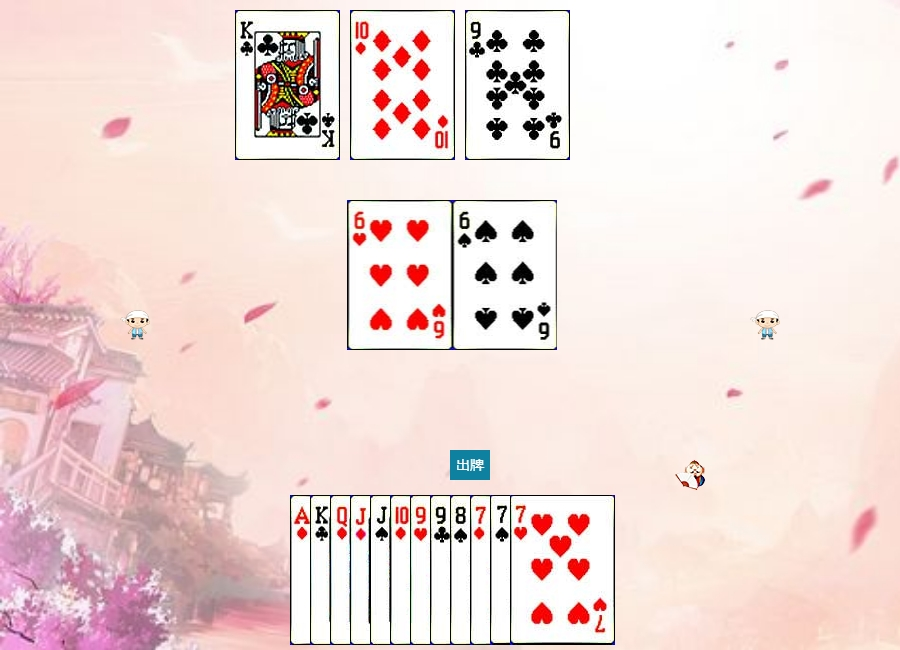10~1: (350, 10, 455, 160), (390, 495, 495, 645)
11~1: (350, 495, 455, 645)
11~4: (370, 495, 475, 645)
12~1: (330, 495, 435, 645)
13~2: (235, 10, 340, 160), (310, 495, 415, 645)
14~1: (290, 495, 395, 645)
6~3: (348, 200, 453, 350)
6~4: (453, 200, 558, 350)
7~1: (470, 495, 575, 645)
7~3: (510, 495, 615, 645)
7~4: (490, 495, 595, 645)
8~4: (450, 495, 555, 645)
9~2: (465, 10, 570, 160), (430, 495, 535, 645)
9~3: (410, 495, 515, 645)
